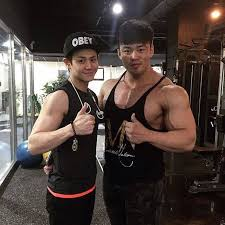people: (105, 20, 196, 225), (29, 31, 99, 225)
